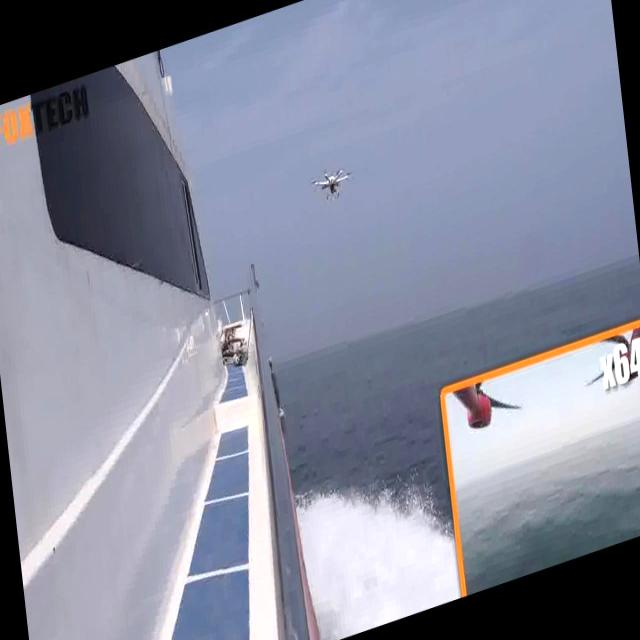drone: (302, 152, 360, 219)
